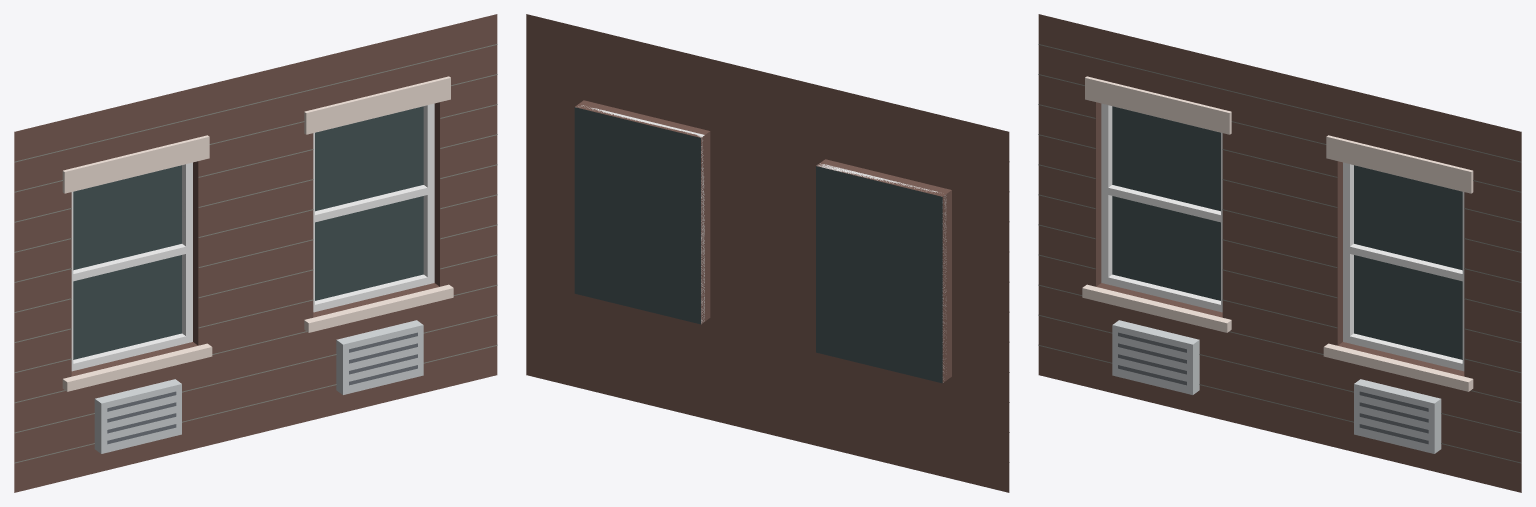
The model's file is mid-w1_close.fbx.
3 renders of one model, left to right at view 1: azimuth 30°, elevation 25°; view 2: azimuth 150°, elevation 25°; view 3: azimuth 330°, elevation 25°, orthographic.
Visible parts, largest first — view 1: a2007/500/mid-w1_close; view 2: a2007/500/mid-w1_close; view 3: a2007/500/mid-w1_close.
Boxes of the visible parts, <box> form: a2007/500/mid-w1_close: <box>14,14,497,492</box>; a2007/500/mid-w1_close: <box>526,14,1009,492</box>; a2007/500/mid-w1_close: <box>1038,14,1521,492</box>.
Bounding box in the file's own units: 4.2 × 3 × 0.242.
